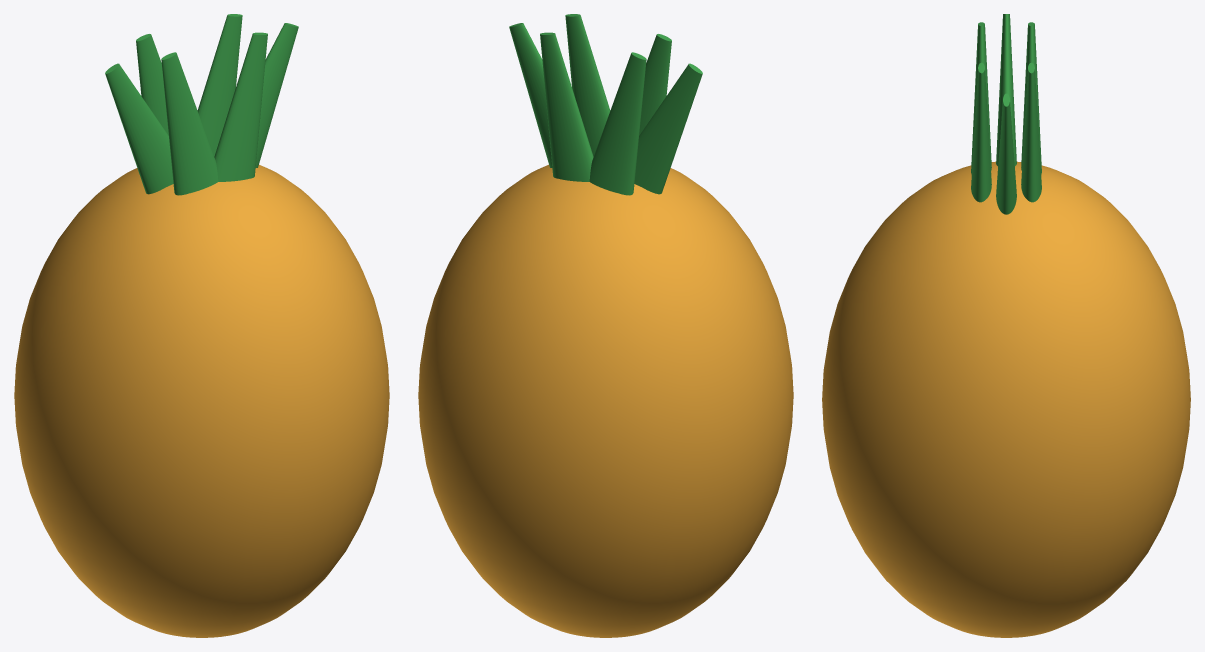
The model's file is ananas.glb.
The picture shows the model from 3 angles, left to right: view 1: azimuth 30°, elevation 25°; view 2: azimuth 150°, elevation 25°; view 3: azimuth 270°, elevation 25°; orthographic projection.
Visible parts, largest first — view 1: ananas_slupka, ananas_list_4, ananas_list_5, ananas_list_3, ananas_list_1, ananas_list_0, ananas_list_2; view 2: ananas_slupka, ananas_list_2, ananas_list_1, ananas_list_3, ananas_list_5, ananas_list_0, ananas_list_4; view 3: ananas_slupka, ananas_list_5, ananas_list_1, ananas_list_0, ananas_list_3, ananas_list_4, ananas_list_2.
Boxes of the visible parts, bbox=[...] form: ananas_slupka: bbox=[14, 164, 389, 637]; ananas_list_4: bbox=[161, 52, 218, 195]; ananas_list_5: bbox=[214, 32, 267, 181]; ananas_list_3: bbox=[105, 63, 173, 194]; ananas_list_1: bbox=[197, 14, 242, 156]; ananas_list_0: bbox=[255, 23, 298, 167]; ananas_list_2: bbox=[136, 34, 168, 135]; ananas_slupka: bbox=[418, 164, 793, 637]; ananas_list_2: bbox=[589, 52, 646, 195]; ananas_list_1: bbox=[540, 32, 593, 181]; ananas_list_3: bbox=[634, 63, 702, 194]; ananas_list_5: bbox=[565, 14, 610, 156]; ananas_list_0: bbox=[509, 23, 552, 167]; ananas_list_4: bbox=[639, 34, 671, 135]; ananas_slupka: bbox=[822, 161, 1190, 637]; ananas_list_5: bbox=[971, 62, 991, 202]; ananas_list_1: bbox=[1021, 62, 1041, 202]; ananas_list_0: bbox=[996, 93, 1016, 214]; ananas_list_3: bbox=[996, 14, 1016, 165]; ananas_list_4: bbox=[971, 22, 991, 174]; ananas_list_2: bbox=[1021, 22, 1041, 173].
Size of the model in its own units: 0.64 by 1.11 by 0.64.
